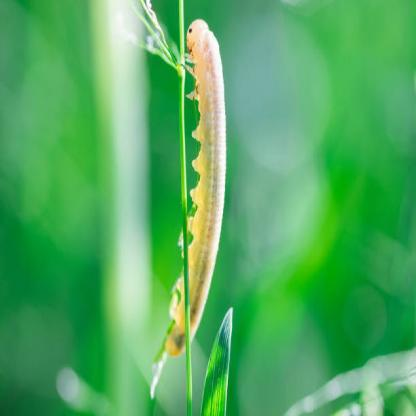sawfly: (168, 7, 228, 357)
